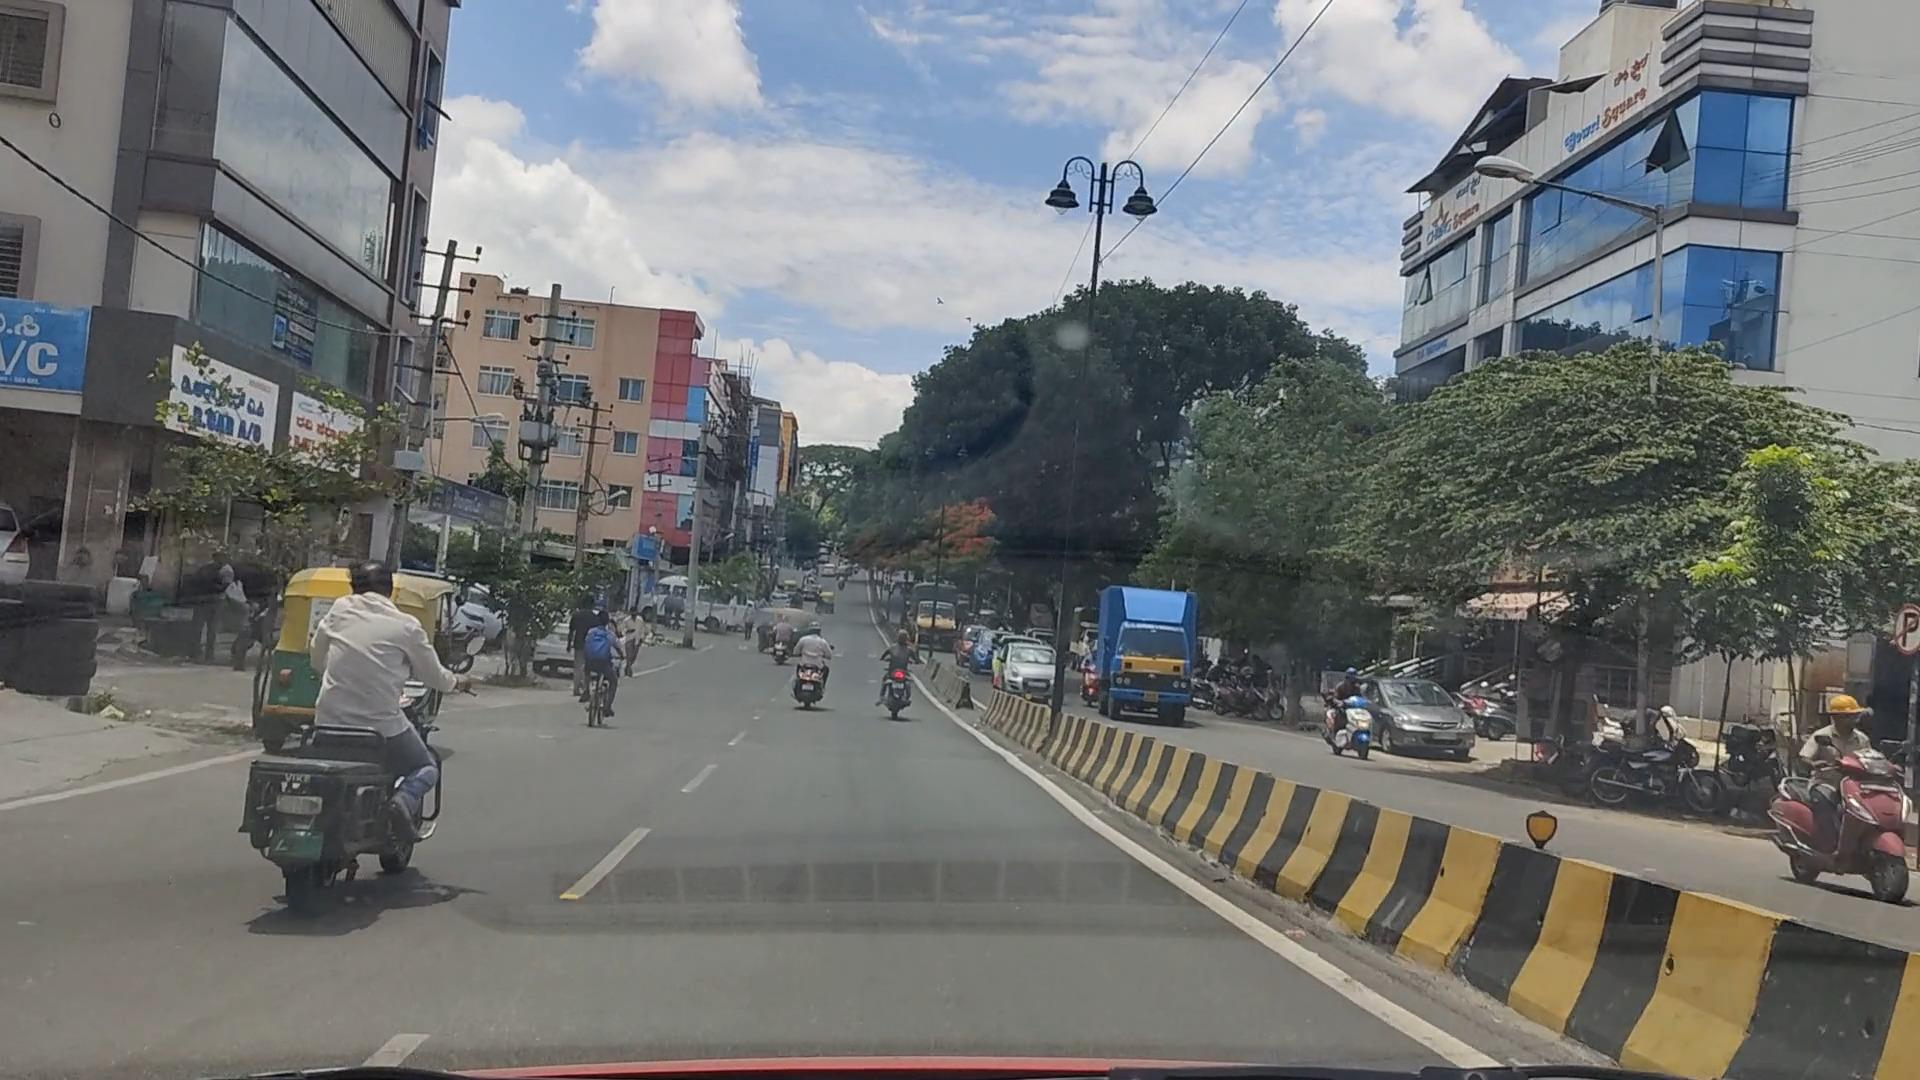LMV: (311, 576, 467, 944), (243, 548, 451, 738)
